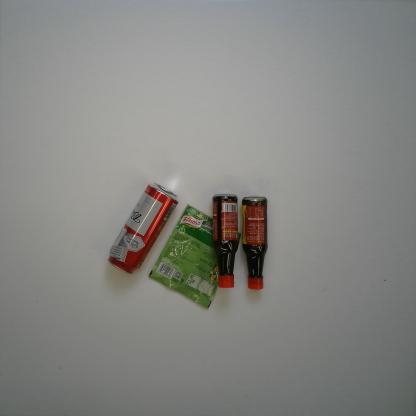Alcohol: (107, 182, 179, 275)
Seasoner: (148, 204, 242, 310), (240, 195, 268, 290), (212, 192, 239, 288)
